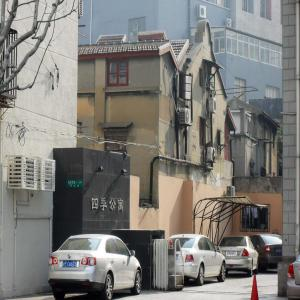Vehicle-registration-plate: (63, 262, 78, 269), (227, 252, 238, 258)
